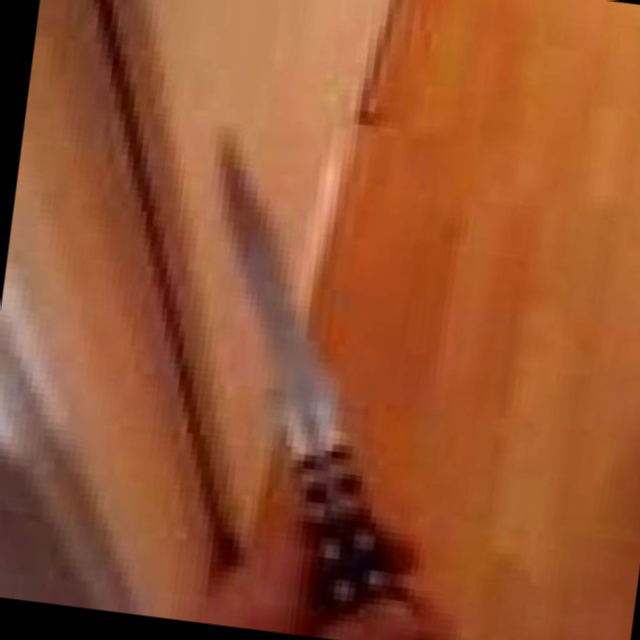Sharp-Object: (167, 142, 445, 637)
